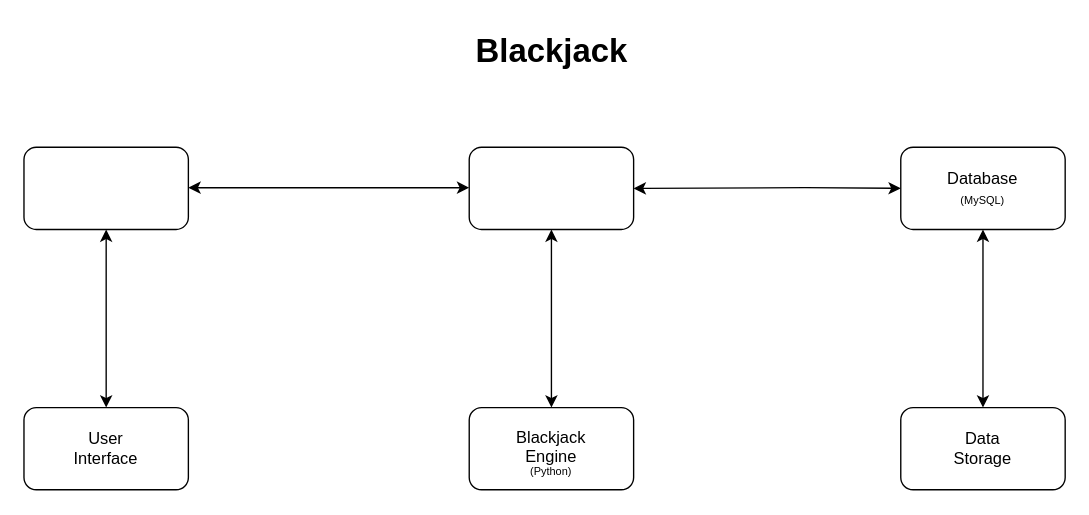
Image size: 1089x515. Some labels were removed from this diagram. The box of each missing label's shape, as (x1, y1, x2, y2) in pixels:
Backend (Node.js): (468, 146, 634, 229)
Frontend (React.js): (23, 146, 188, 229)
